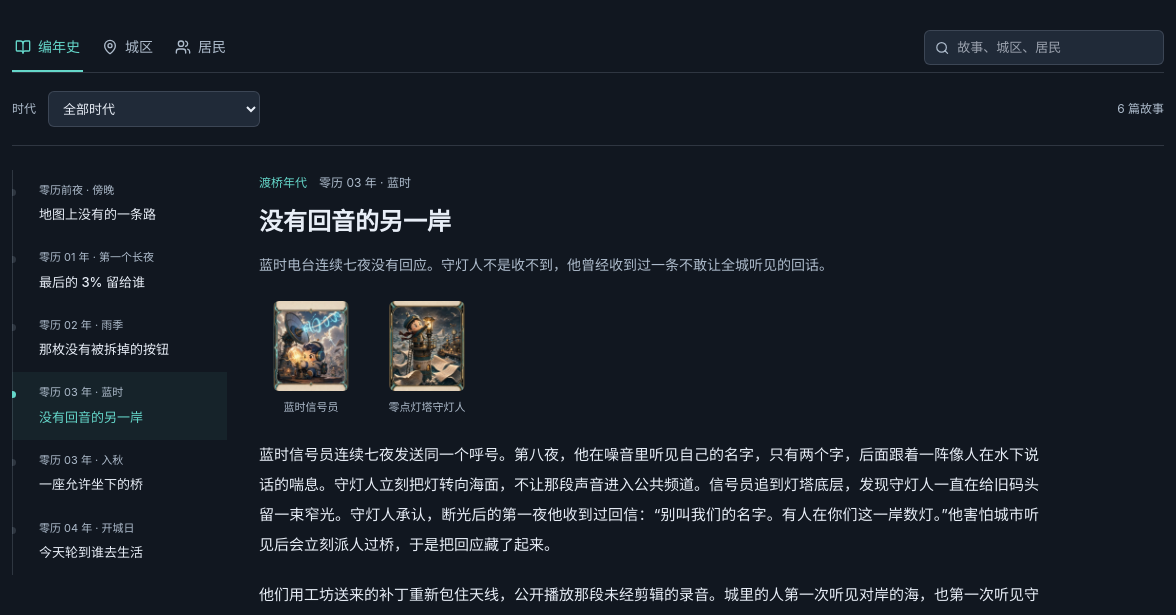
Test case: ZeroCityChronicle › deep links to a story and navigates within the filtered chapter list
Expected: the heading with id "chronicle-story-title" reads "没有回音的另一岸", [259, 207, 451, 236]
Select "渡桥年代 · 零历 03 年" in the dropdown labelled "时代": (154, 109) [48, 91, 260, 127]
(page scrolled)
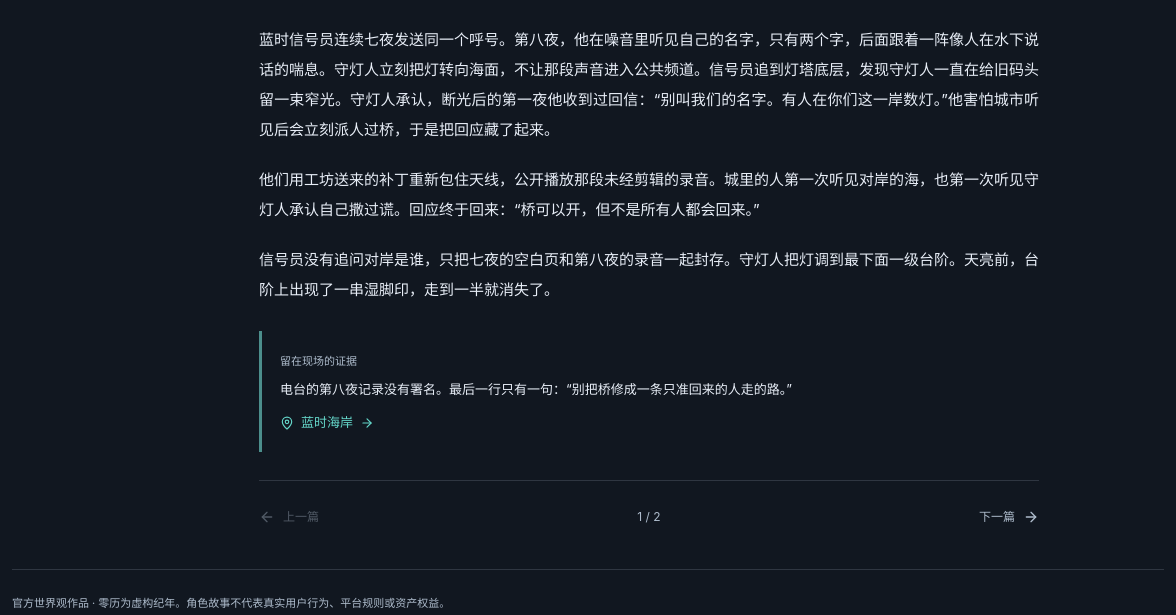
Expected: the button "上一篇" is disabled, [259, 499, 319, 535]
Click the button "下一篇": (1009, 517) [979, 499, 1039, 535]
(page scrolled)
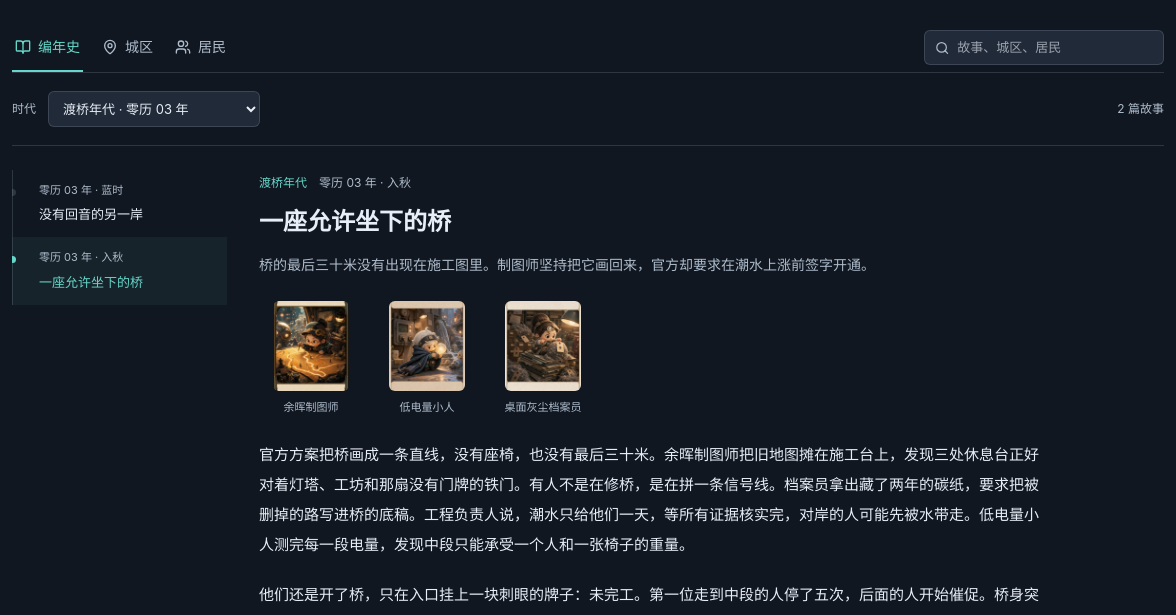
Expected: the heading with id "chronicle-story-title" reads "一座允许坐下的桥", [259, 207, 451, 236]
